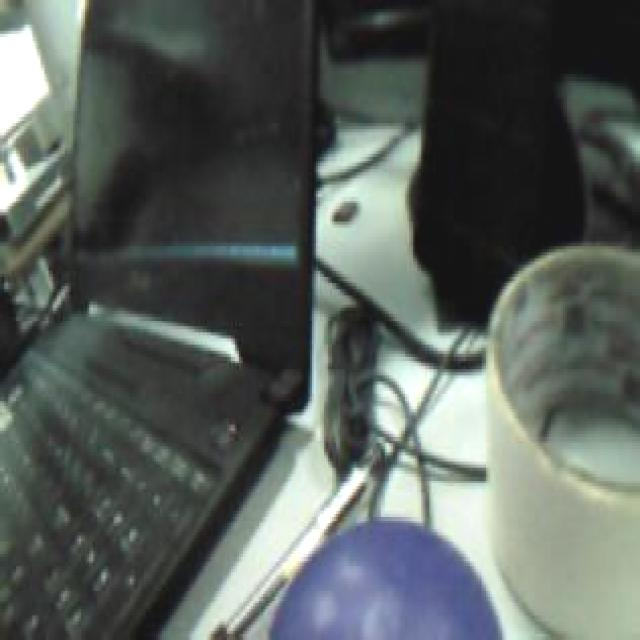BallPurple: (272, 516, 505, 640)
